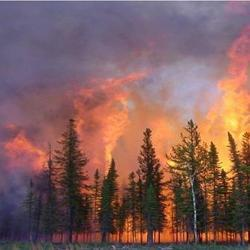fire: (73, 87, 120, 157), (222, 90, 250, 150), (114, 235, 208, 243)
